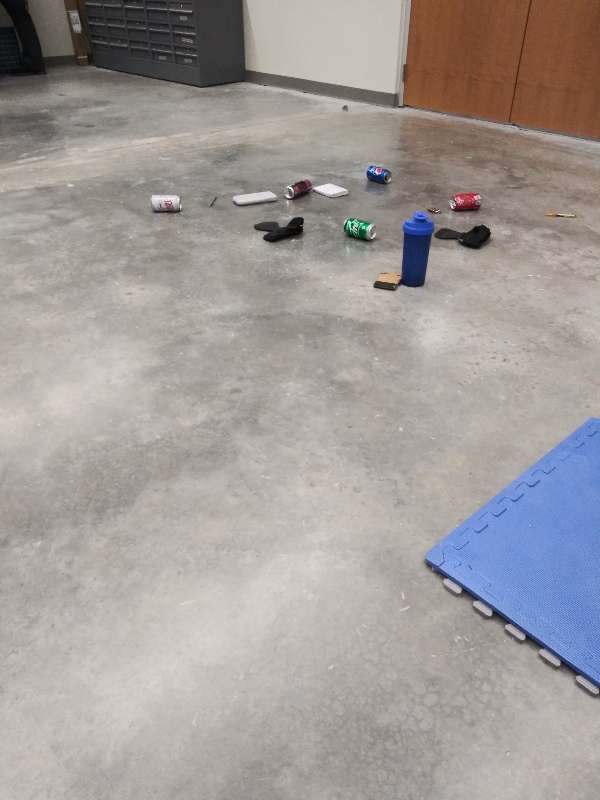can: (341, 215, 378, 241), (148, 190, 185, 215), (283, 177, 315, 202), (447, 192, 483, 212), (364, 162, 392, 186)
